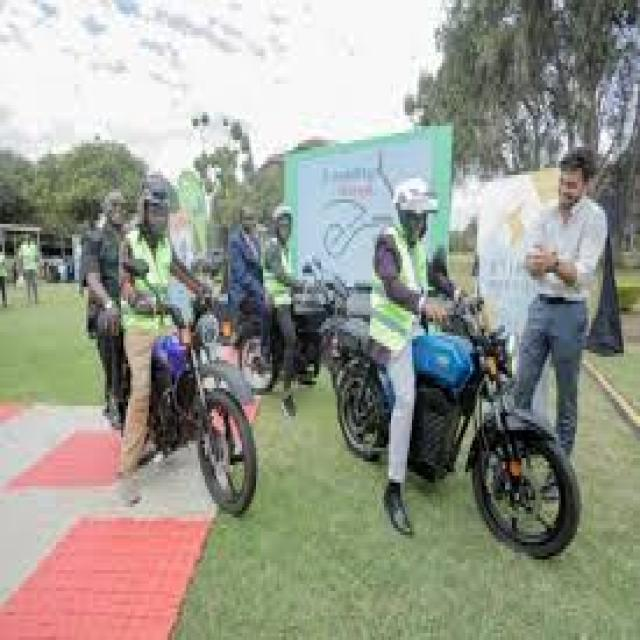bodaboda: (306, 222, 595, 571), (71, 195, 270, 538)
